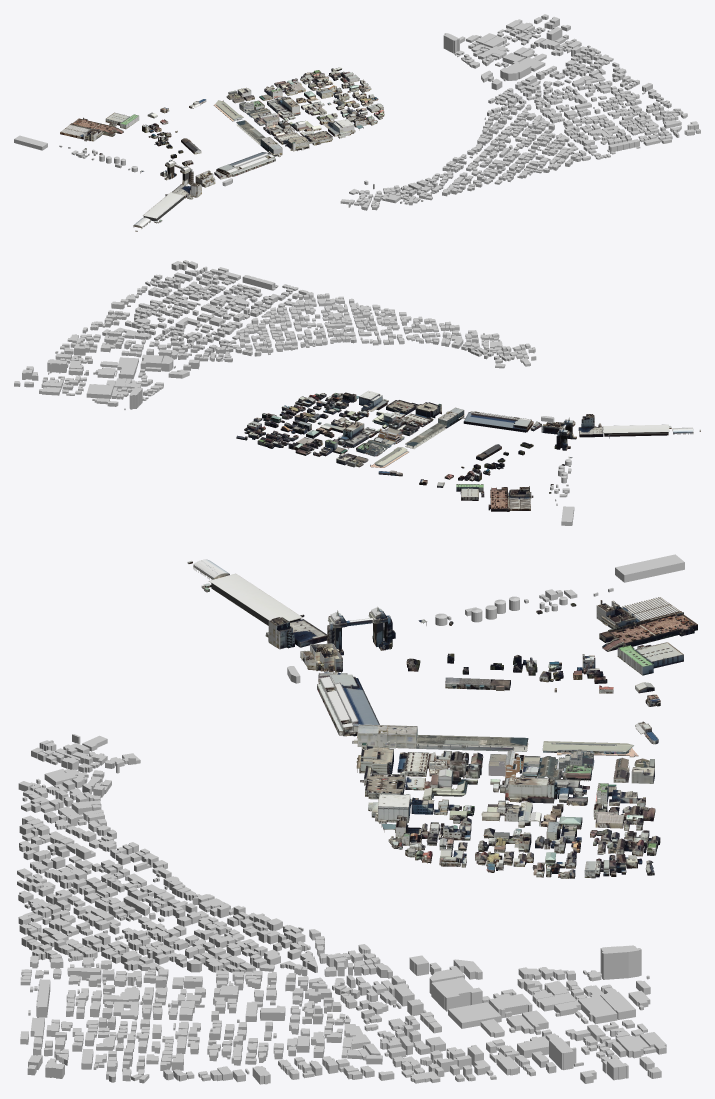
The model's file is 2023-lod3-port-packed.glb.
The picture shows the model from 3 angles, top to bottom: view 1: azimuth 30°, elevation 25°; view 2: azimuth 150°, elevation 25°; view 3: azimuth 270°, elevation 25°; orthographic projection. The views are drawn at different scales.
Size of the model in its own units: 1304 by 45.92 by 719.
18 materials, 16 textured.
